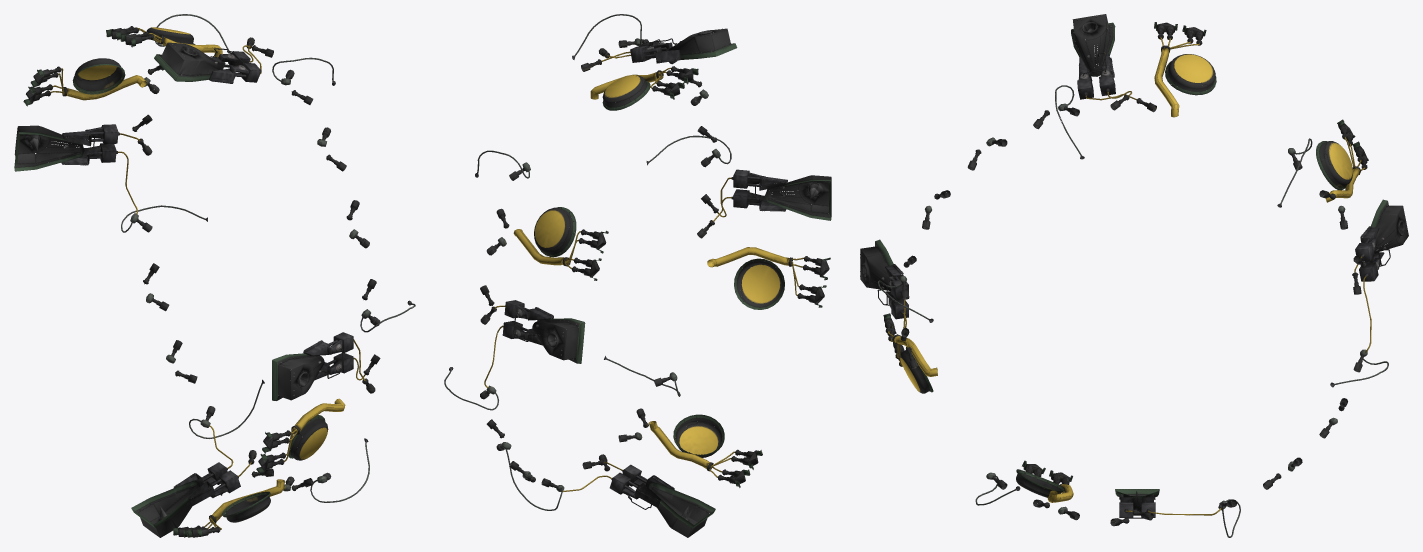
File: RCS.fbx
The picture shows the model from 3 angles, left to right: view 1: azimuth 30°, elevation 25°; view 2: azimuth 150°, elevation 25°; view 3: azimuth 270°, elevation 25°; orthographic projection. The views are drawn at different scales.
Parts seen in each view (by area): view 1: Empty_Mesh; view 2: Empty_Mesh; view 3: Empty_Mesh.
Part boxes in pixels (x1,y1,x2,y2): Empty_Mesh: (14,14,415,537); Empty_Mesh: (444,14,831,537); Empty_Mesh: (860,14,1408,537).
Bounding box in the file's own units: 2.1 × 6 × 6.
